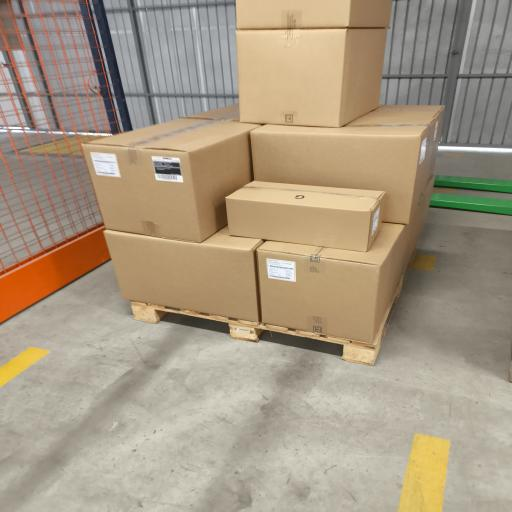pallet: (131, 277, 403, 365), (131, 302, 263, 341)
